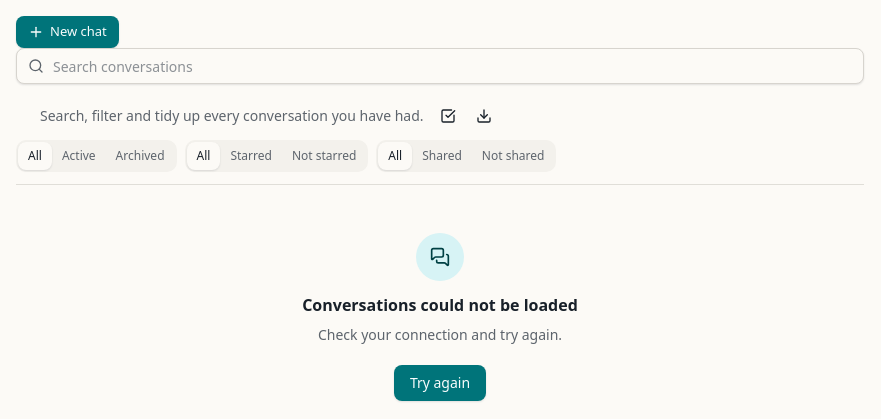
Test case: RecentPage list › shows a retry when the list cannot load
The width and height of the screenshot is (881, 419).
Expected: the heading "Conversations could not be loaded" is shown, [302,293,578,317]
What coordinates should you click on to do the following:
click the button "Try again"
I would click on:
 (440, 383)
Its box is [394,365,486,401].
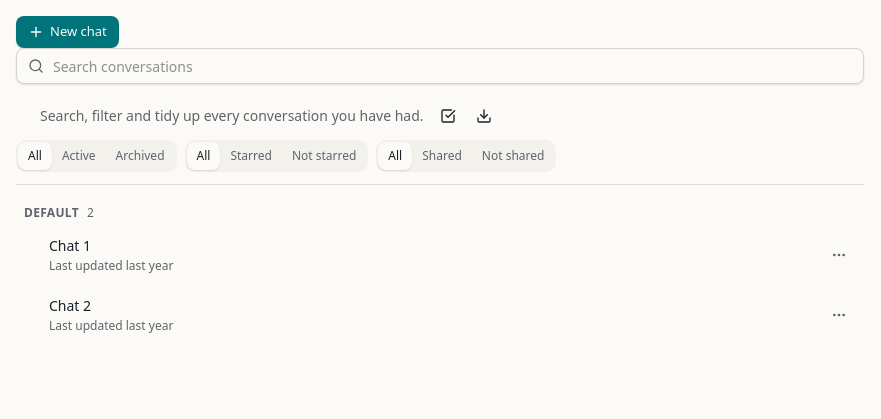
Now the text "Chat 1" is shown, box [49,236,91,256]
